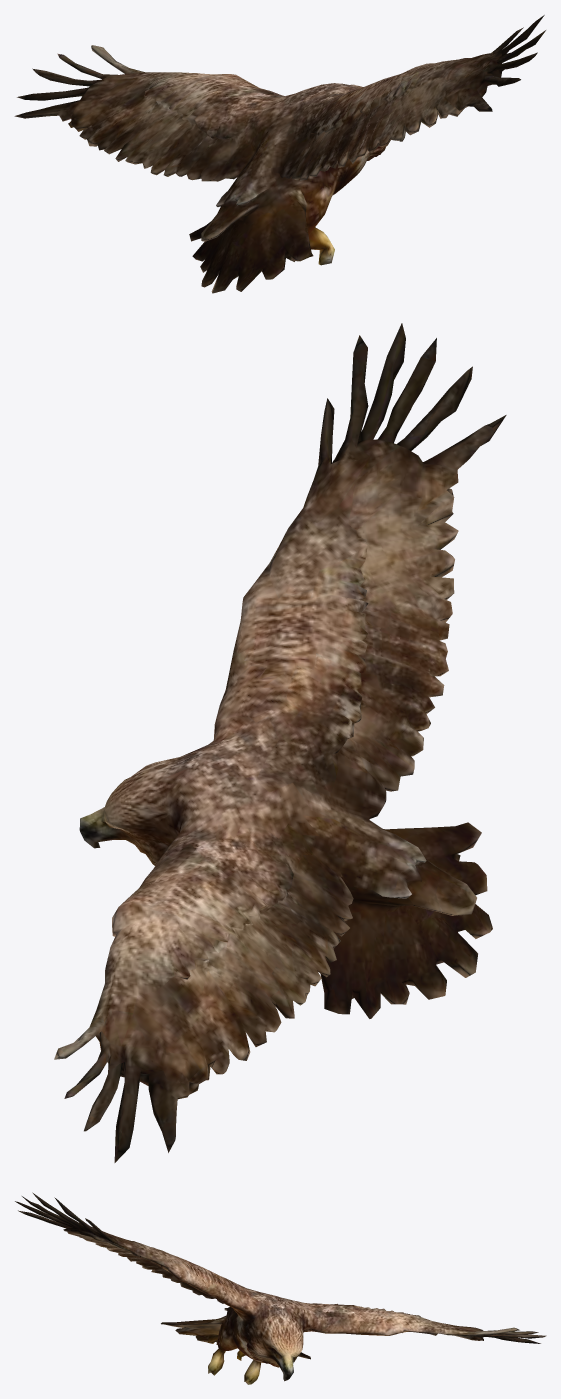
Rendered from bussard.glb.
The picture shows the model from 3 angles, top to bottom: view 1: azimuth 30°, elevation 25°; view 2: azimuth 150°, elevation 25°; view 3: azimuth 270°, elevation 25°; orthographic projection. The views are drawn at different scales.
Parts seen in each view (by area): view 1: tripo_node_63f2cf6b-aa5c-463a-9370-92b2b6e399ce; view 2: tripo_node_63f2cf6b-aa5c-463a-9370-92b2b6e399ce; view 3: tripo_node_63f2cf6b-aa5c-463a-9370-92b2b6e399ce.
Boxes of the visible parts, x1=… form: tripo_node_63f2cf6b-aa5c-463a-9370-92b2b6e399ce: x1=14, y1=15, x2=545, y2=293; tripo_node_63f2cf6b-aa5c-463a-9370-92b2b6e399ce: x1=54, y1=323, x2=506, y2=1162; tripo_node_63f2cf6b-aa5c-463a-9370-92b2b6e399ce: x1=15, y1=1192, x2=546, y2=1384.
Bounding box in the file's own units: 0.366 × 0.4681 × 1.
Materials: 1 (1 with a texture image).
